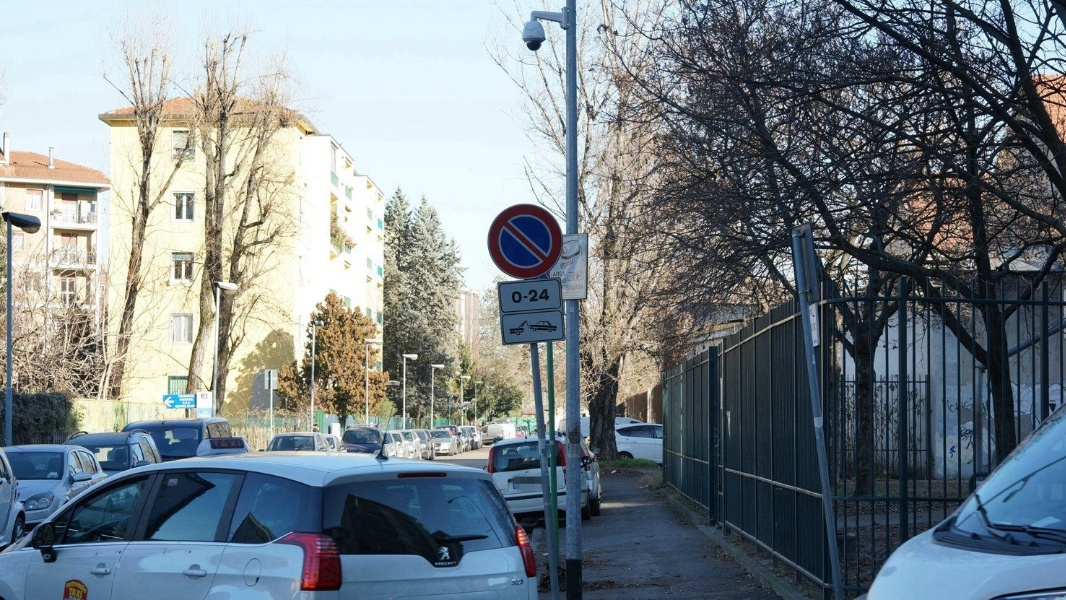text: (66, 578, 80, 597), (513, 291, 528, 304), (529, 289, 544, 302), (68, 588, 80, 600), (225, 439, 240, 448), (81, 578, 88, 597), (211, 439, 224, 448), (561, 284, 576, 291), (545, 289, 551, 302), (178, 395, 192, 399), (179, 398, 192, 402), (553, 271, 560, 278), (577, 284, 584, 291), (177, 405, 192, 408), (561, 278, 567, 284), (81, 588, 84, 600), (561, 271, 566, 278), (182, 402, 192, 405), (241, 439, 243, 448), (523, 297, 528, 299), (193, 395, 195, 399), (174, 405, 176, 408), (193, 405, 195, 408)
